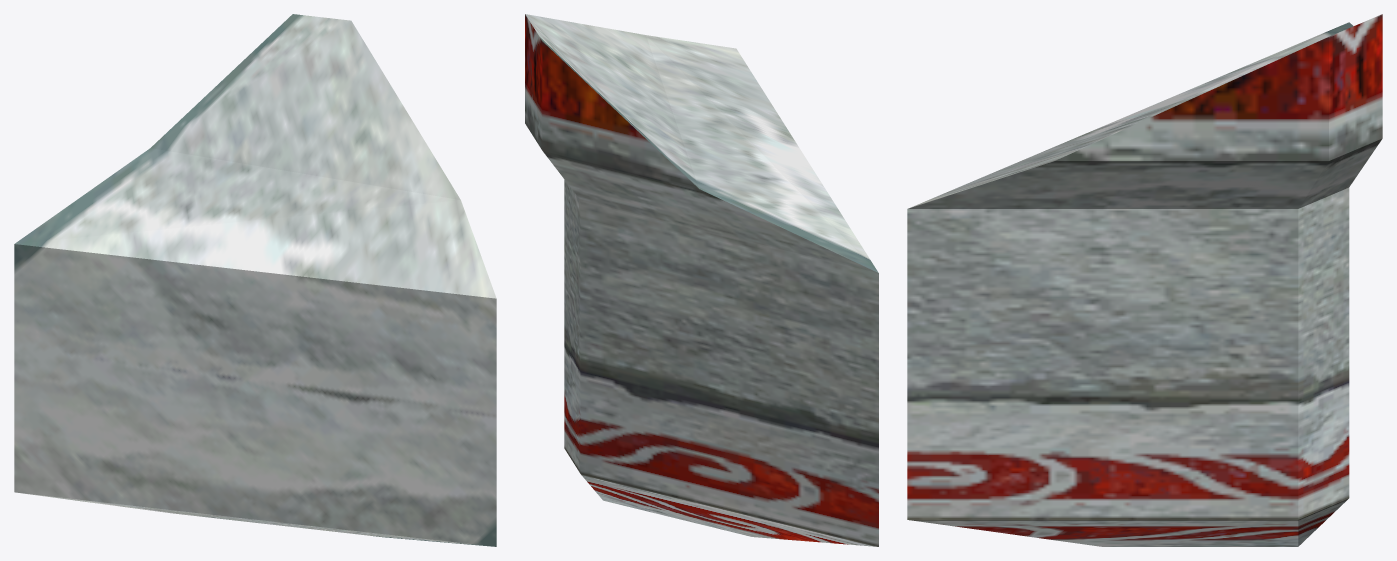
File: Piece7.obj
3 renders of one model, left to right at view 1: azimuth 30°, elevation 25°; view 2: azimuth 150°, elevation 25°; view 3: azimuth 270°, elevation 25°, orthographic. The views are drawn at different scales.
Size of the model in its own units: 17.72 by 22.44 by 17.72.
Materials: 2 (2 with a texture image).
